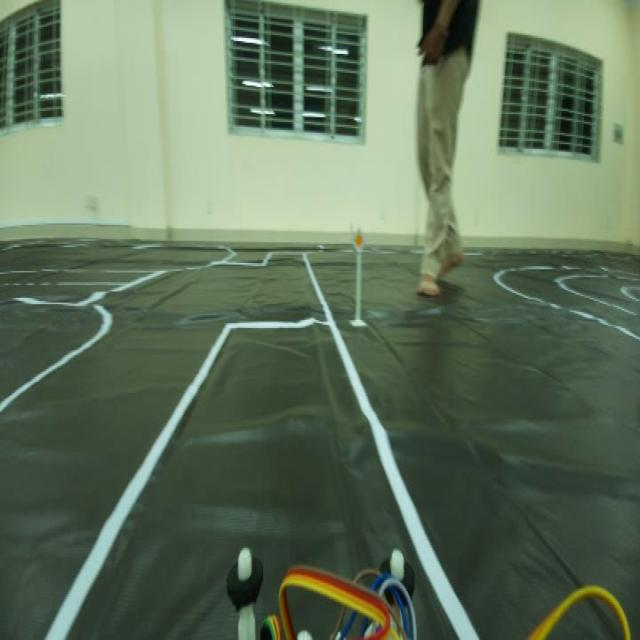priority: (351, 223, 367, 257)
